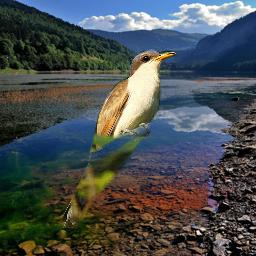Cuckoo: (57, 46, 180, 232)
